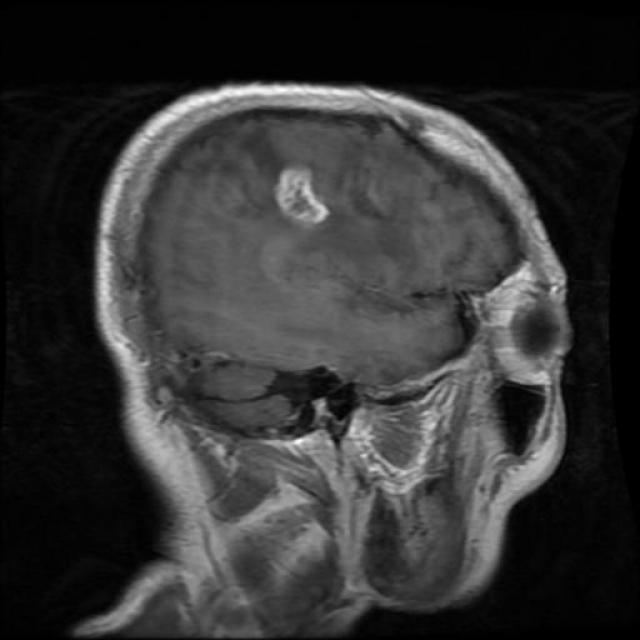Brain-Tumor: (264, 138, 344, 242)
eye: (471, 271, 590, 401)
